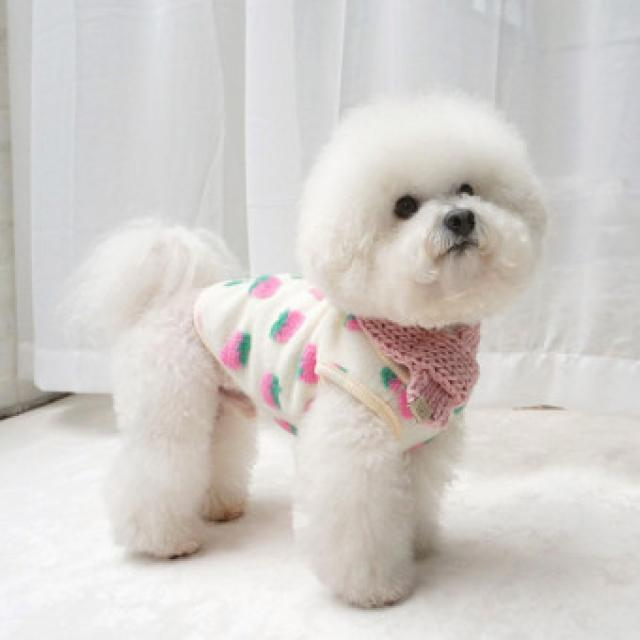cloth: (194, 274, 479, 450)
